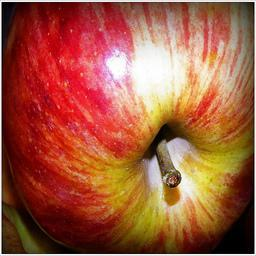apple: (2, 1, 256, 252)
